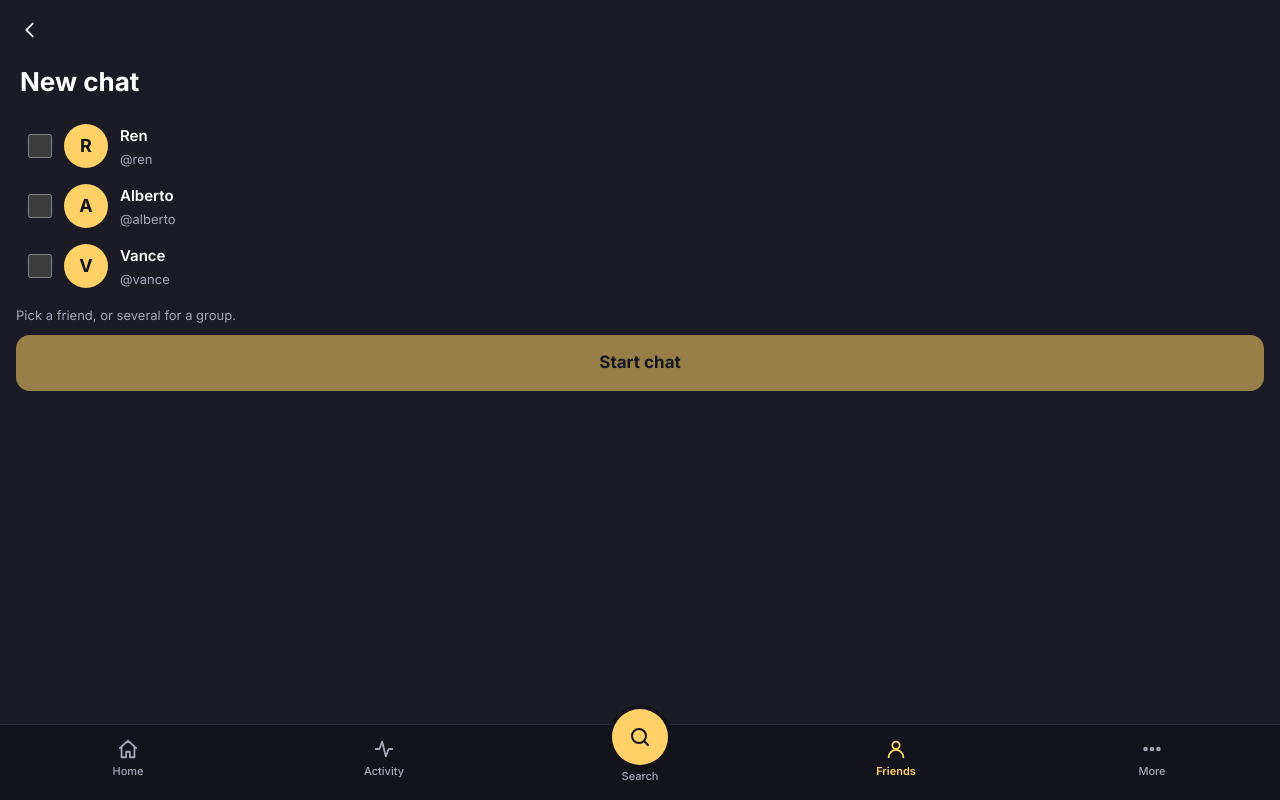
Test: New chat › two or more: Start chat makes a group with the name
The width and height of the screenshot is (1280, 800).
Click the checkbox labelled "R Ren @ren".
click(40, 146)  # box [28,134,52,158]
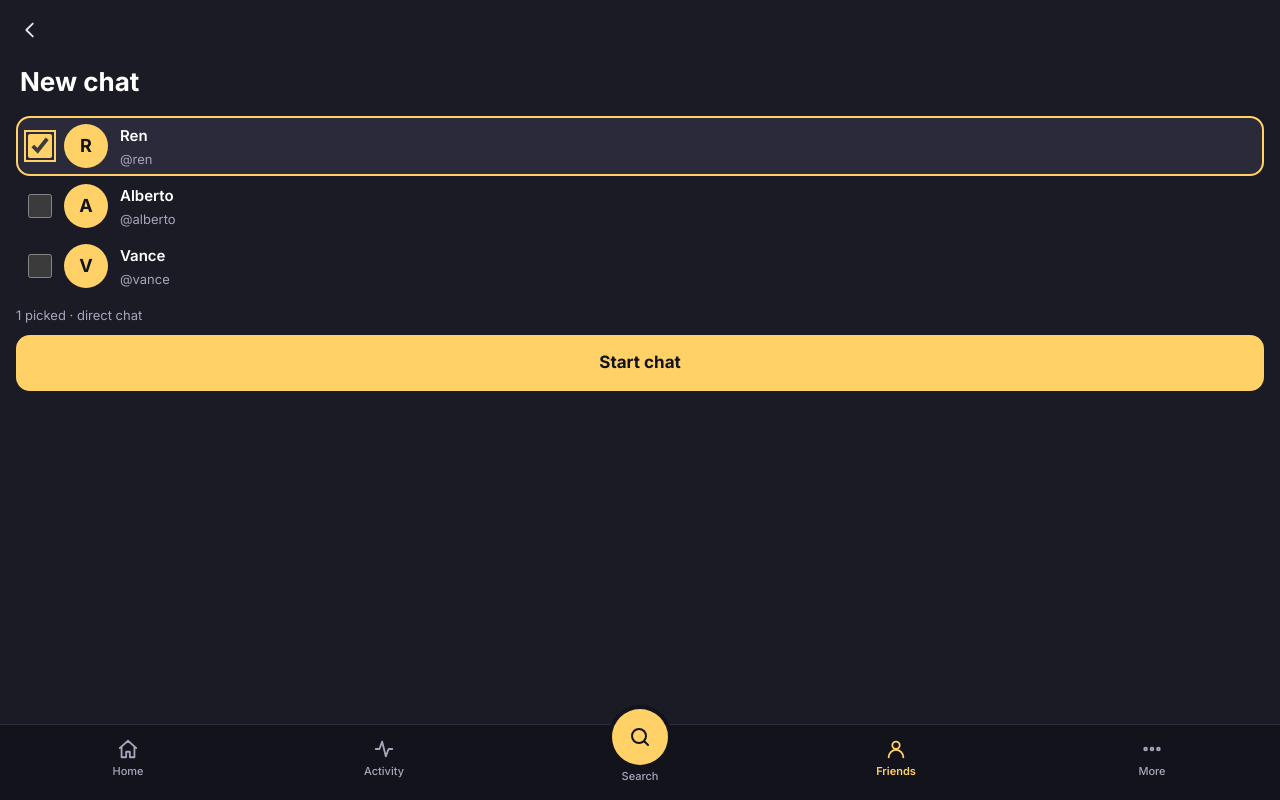
Click the checkbox labelled "A Alberto @alberto".
click(40, 206)  # box [28,194,52,218]
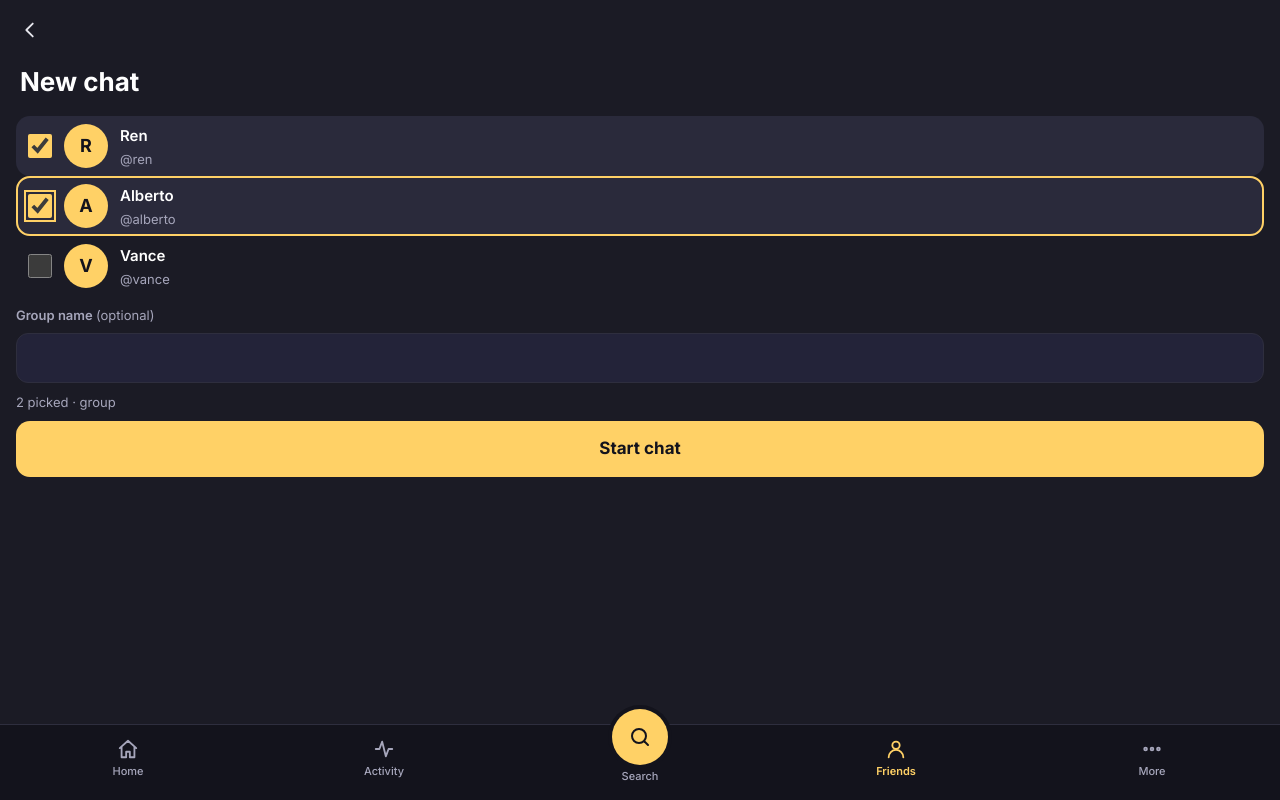
Type "Anime night" into the field labelled "Group name (optional)".
click(640, 358); type("Anime night")  # box [16,333,1264,383]
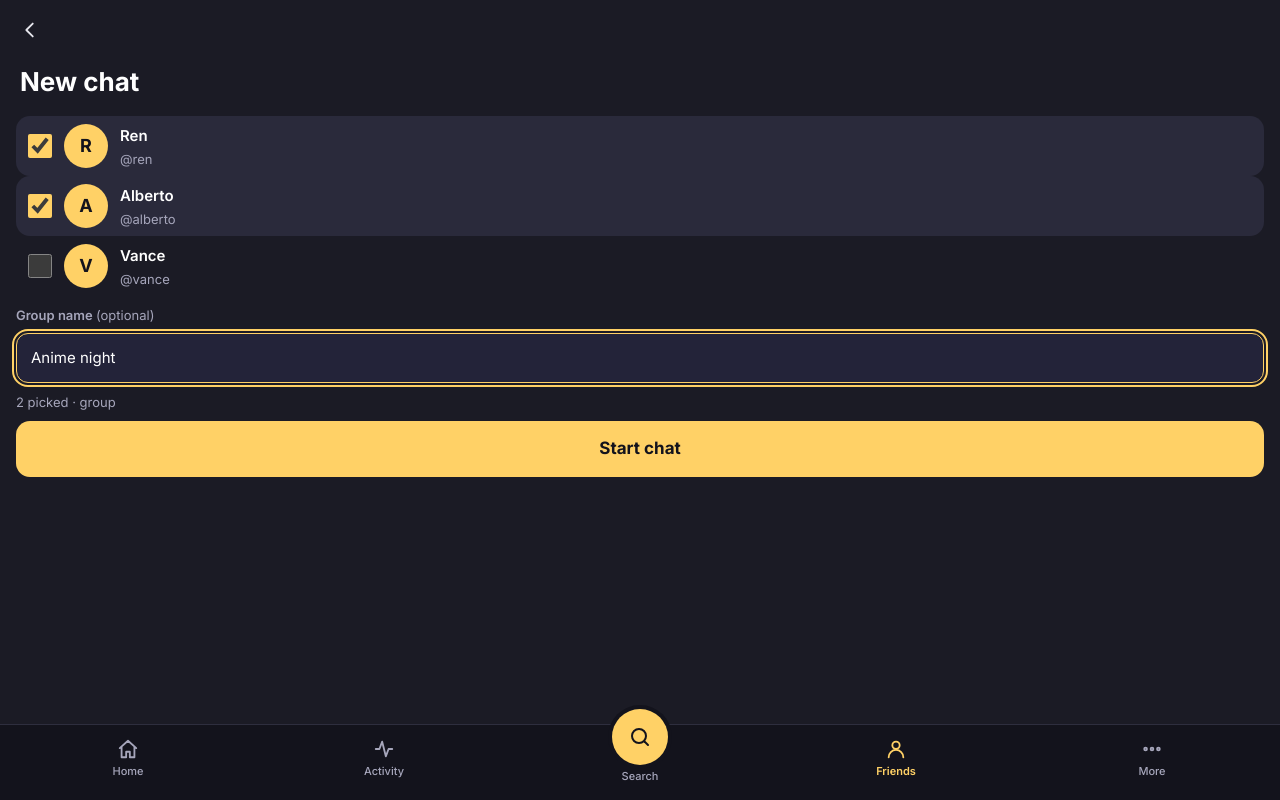
Click the button "Start chat".
click(640, 449)  # box [16,421,1264,477]
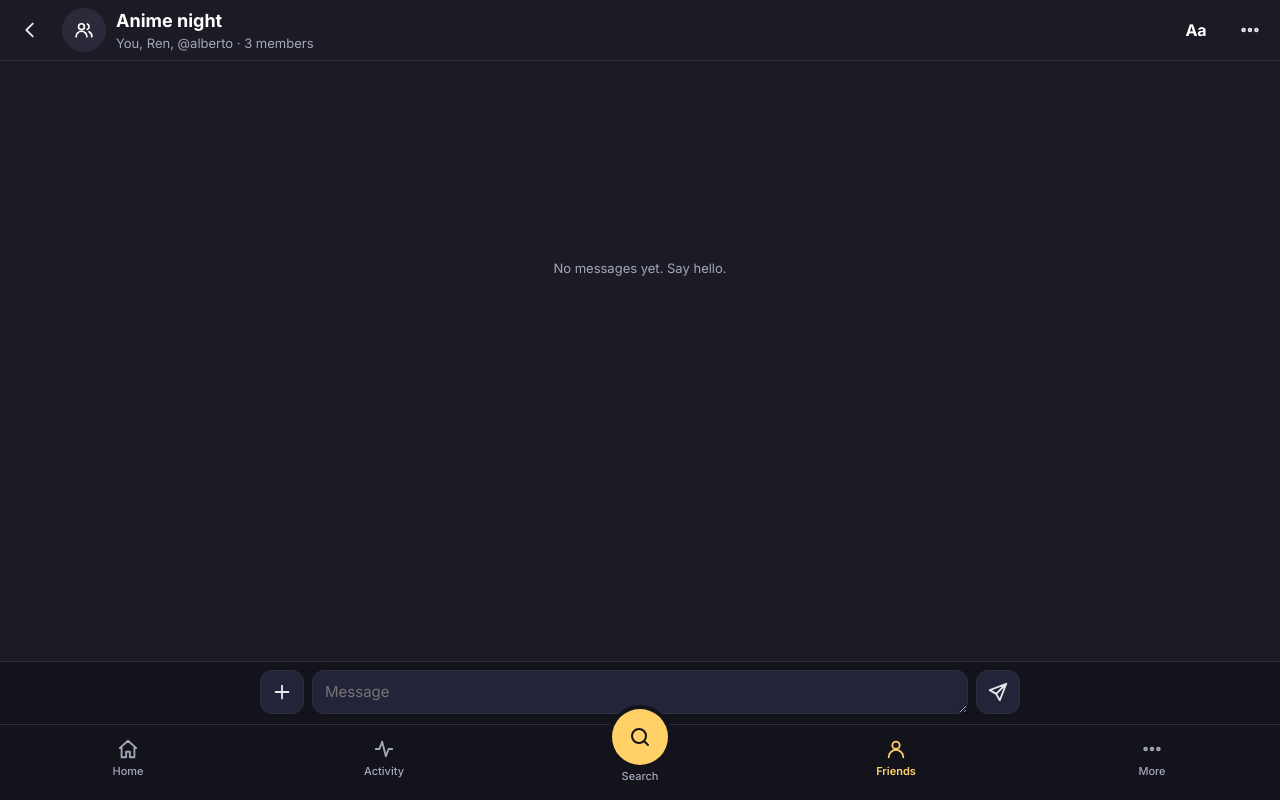
Check: the heading "Anime night" is shown, box [116,10,222,31]
